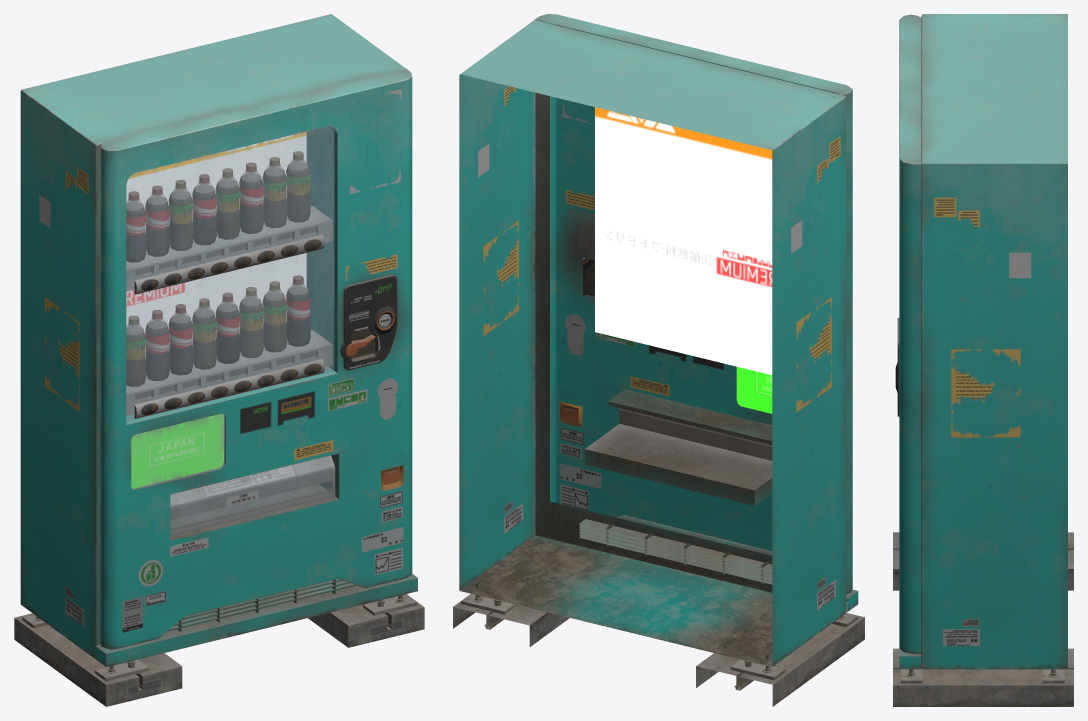
The model's file is vending_machine.glb.
3 renders of one model, left to right at view 1: azimuth 30°, elevation 25°; view 2: azimuth 150°, elevation 25°; view 3: azimuth 270°, elevation 25°, orthographic. The views are drawn at different scales.
Visible parts, largest first — view 1: group2_a8; view 2: group2_a8; view 3: group2_a8.
Boxes of the visible parts, x1,y1,x2,y2 form: group2_a8: [14, 14, 424, 706]; group2_a8: [453, 14, 864, 706]; group2_a8: [893, 14, 1073, 706].
Bounding box in the file's own units: 937 × 1551 × 469.
1 material, 1 textured.
